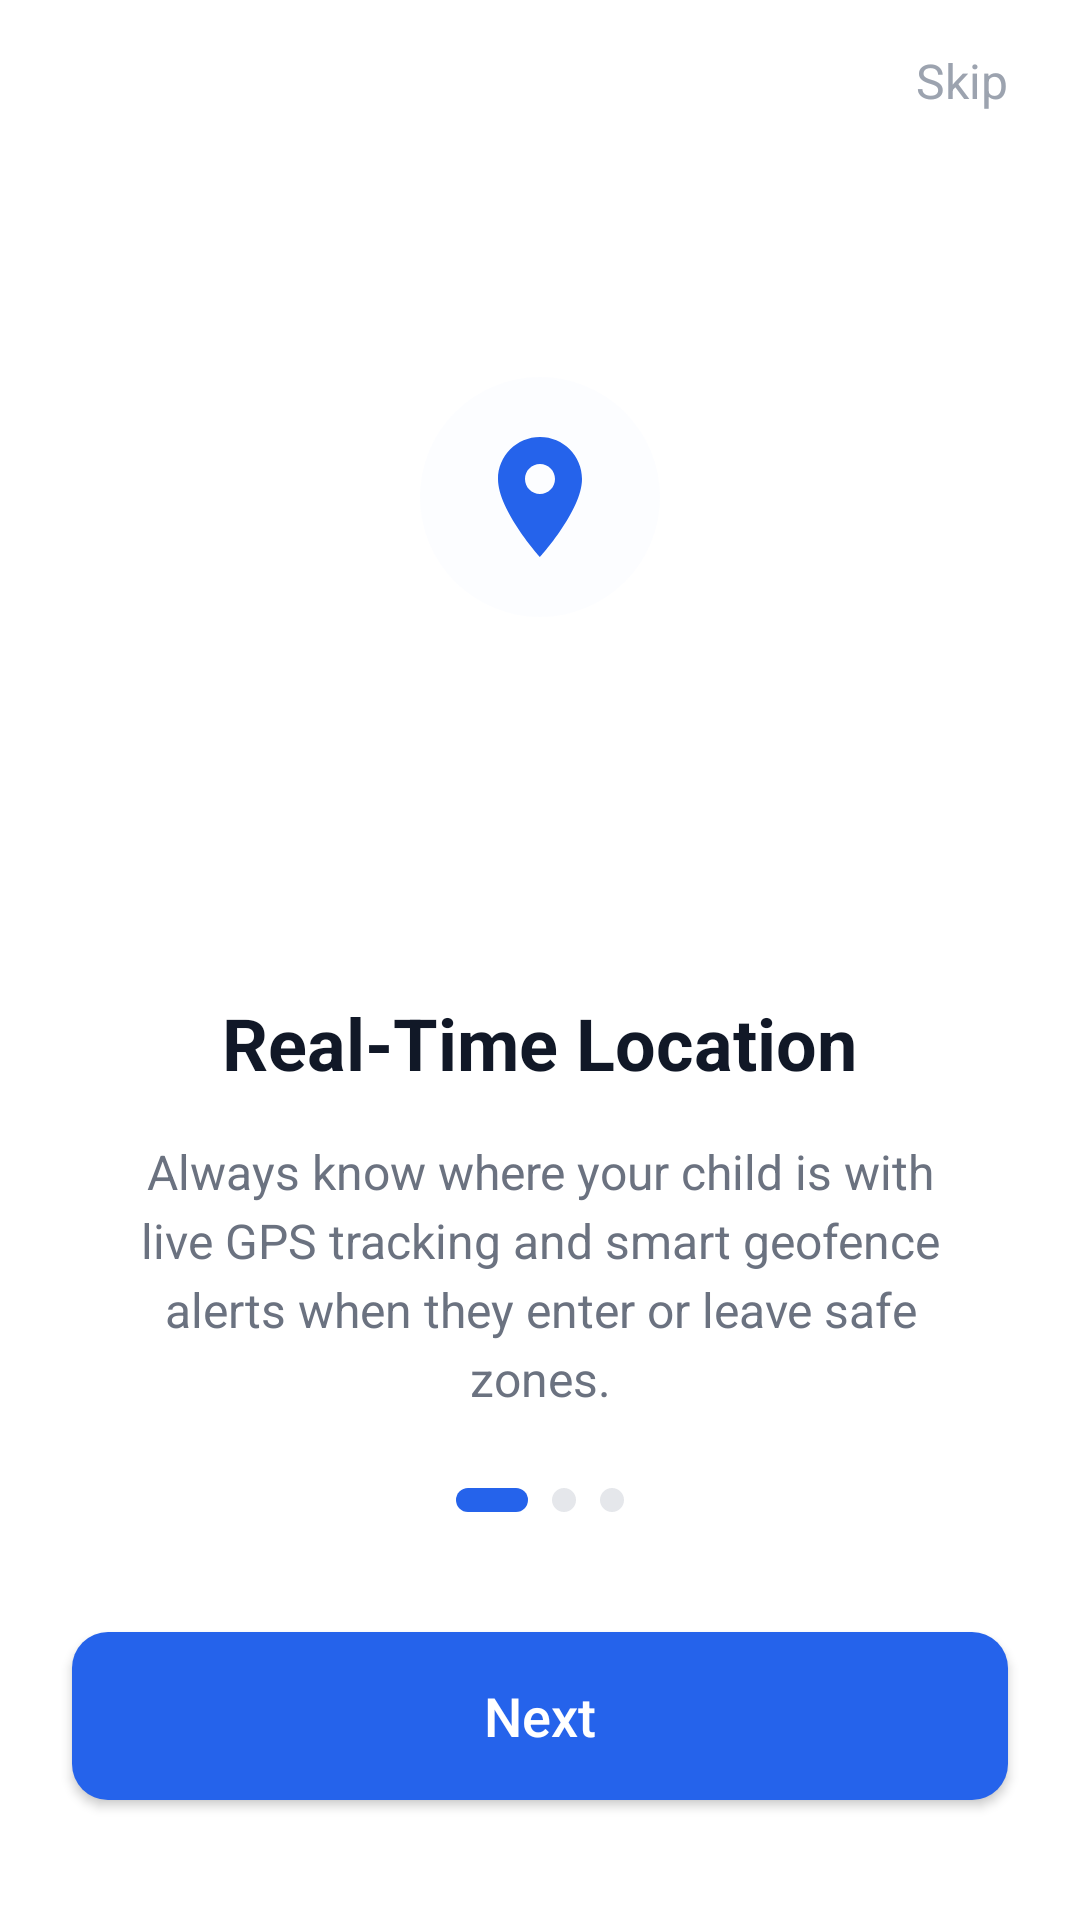

Icons on this 1080 × 1920 Android screen, each with the point to tap as [x,y]:
location pin: [540,497]
